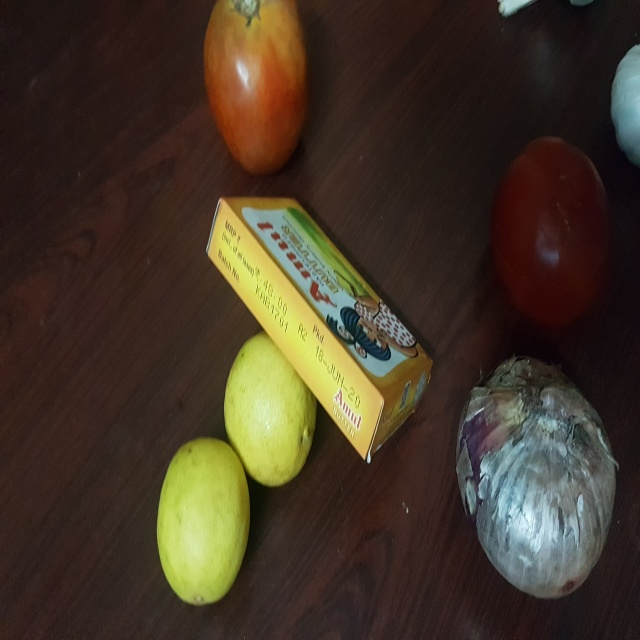butter: (204, 185, 455, 465)
lemon: (156, 435, 259, 606), (217, 327, 321, 485)
onion: (448, 355, 621, 606)
tomato: (480, 131, 624, 340), (192, 2, 328, 175)
